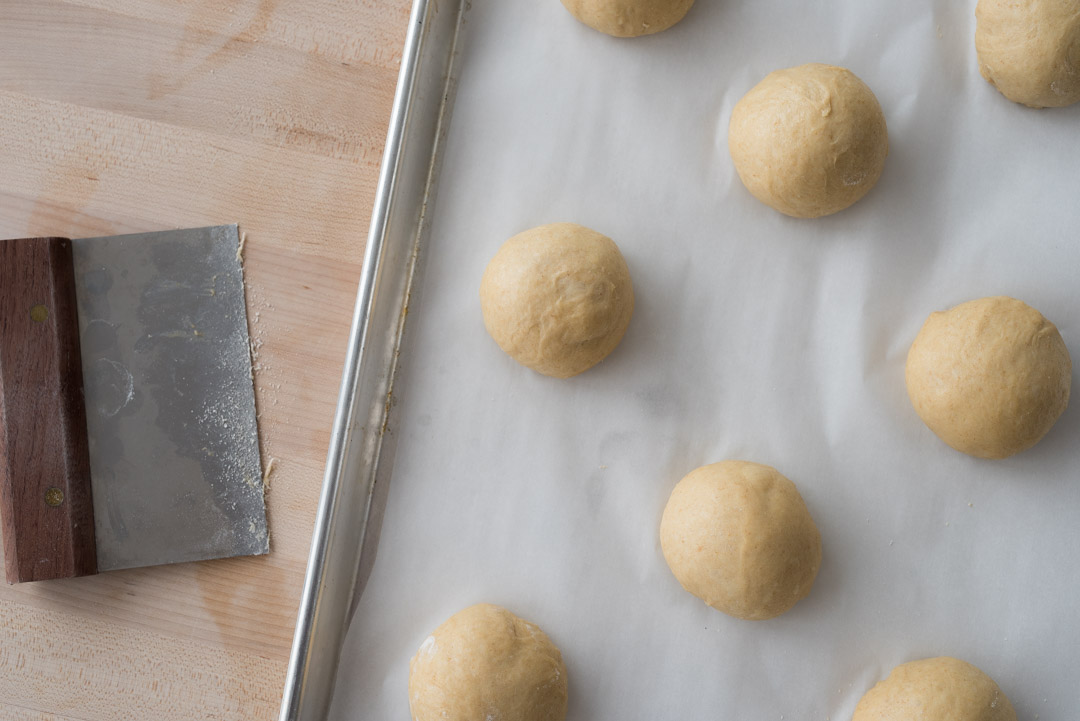hamburger_buns: (904, 289, 1073, 480), (639, 458, 834, 622), (476, 210, 635, 407)
